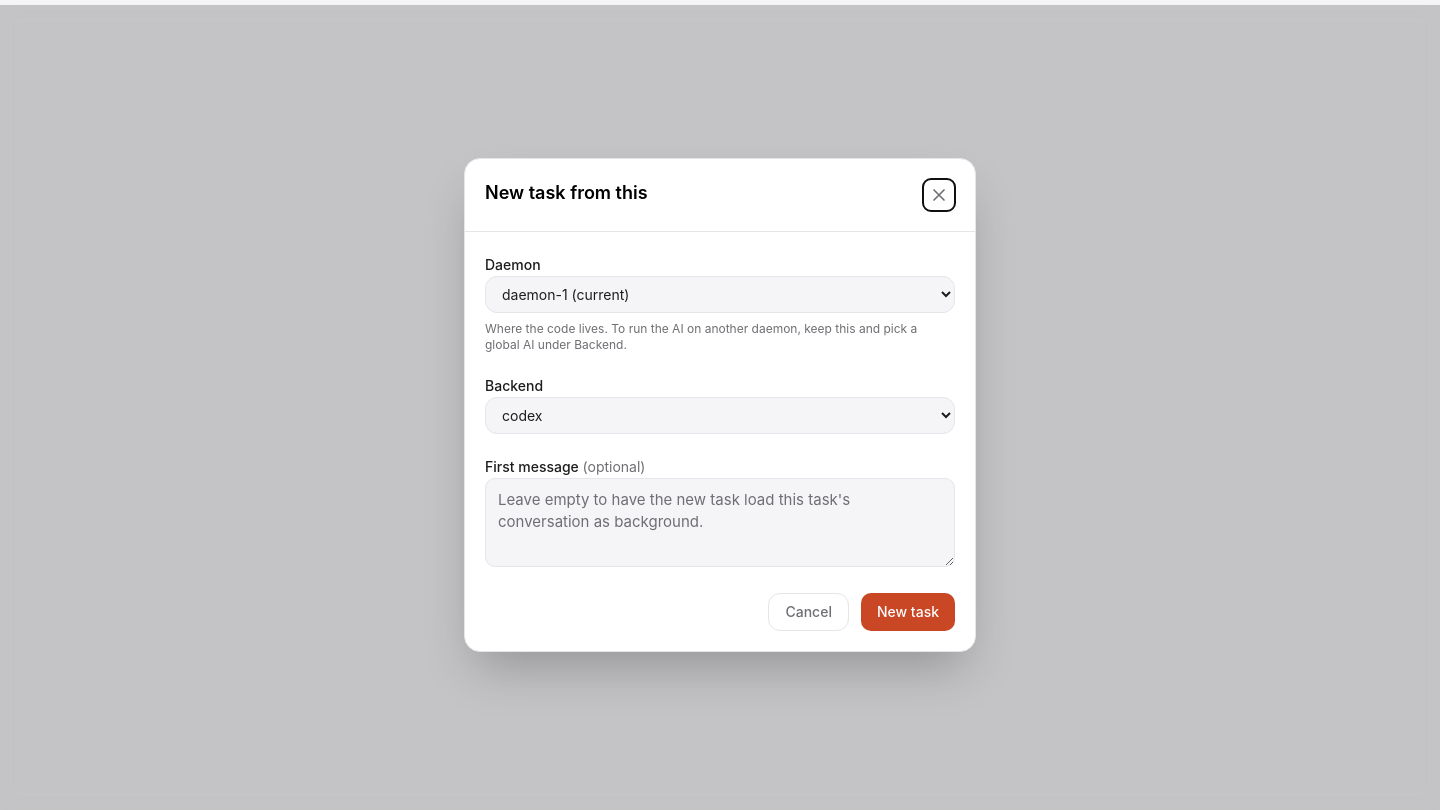
Scenario: RestartTaskControls › global AI in the Backend dropdown › points at global AI when the work is moved to another daemon
Select "daemon-2" in the dropdown labelled "Daemon" at (720, 294), box [485,276,955,313]
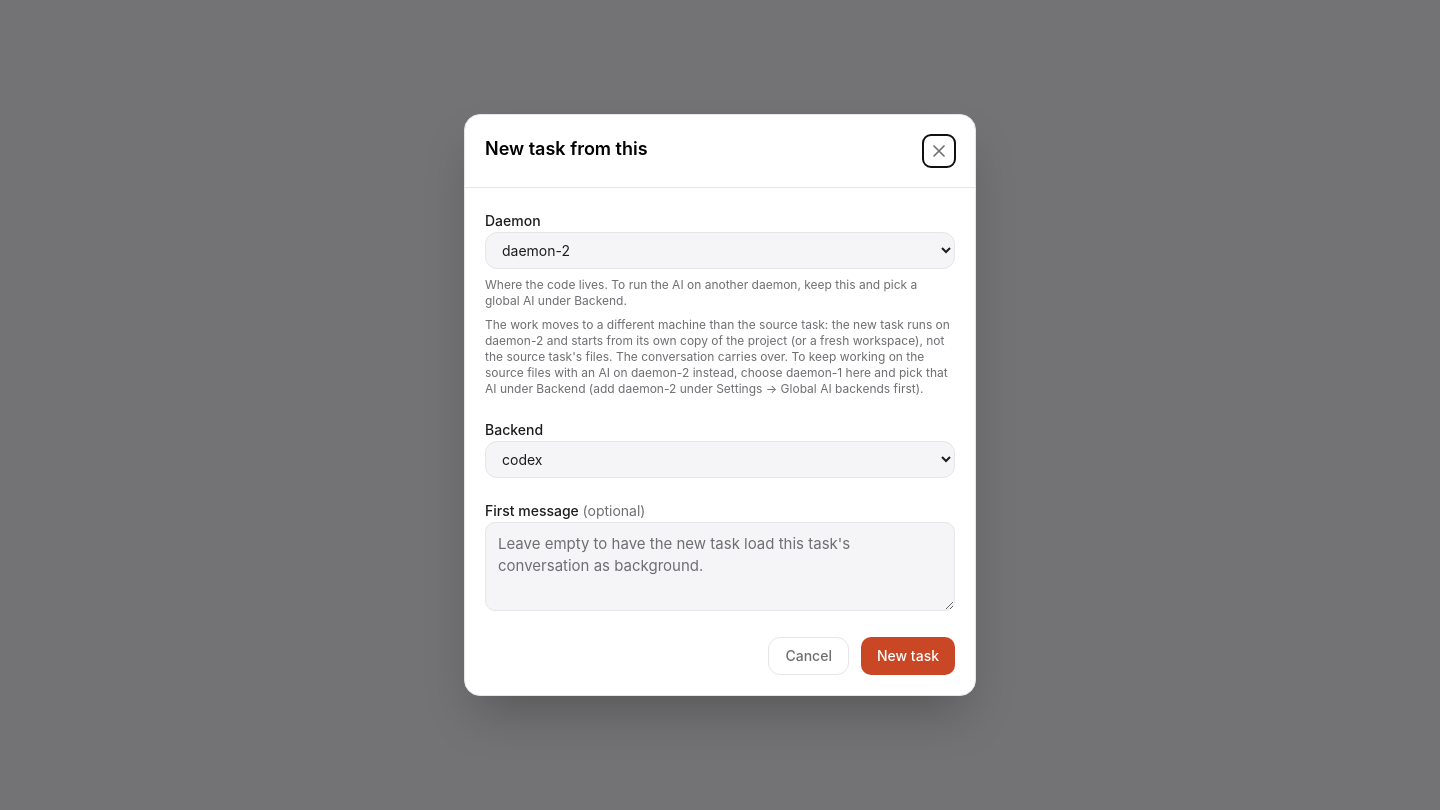
Expected: the text "choose daemon-1 here and pick that AI under Backend (add daemon-2 under Settings → Global AI backends first)" is shown, [485,349,948,396]
